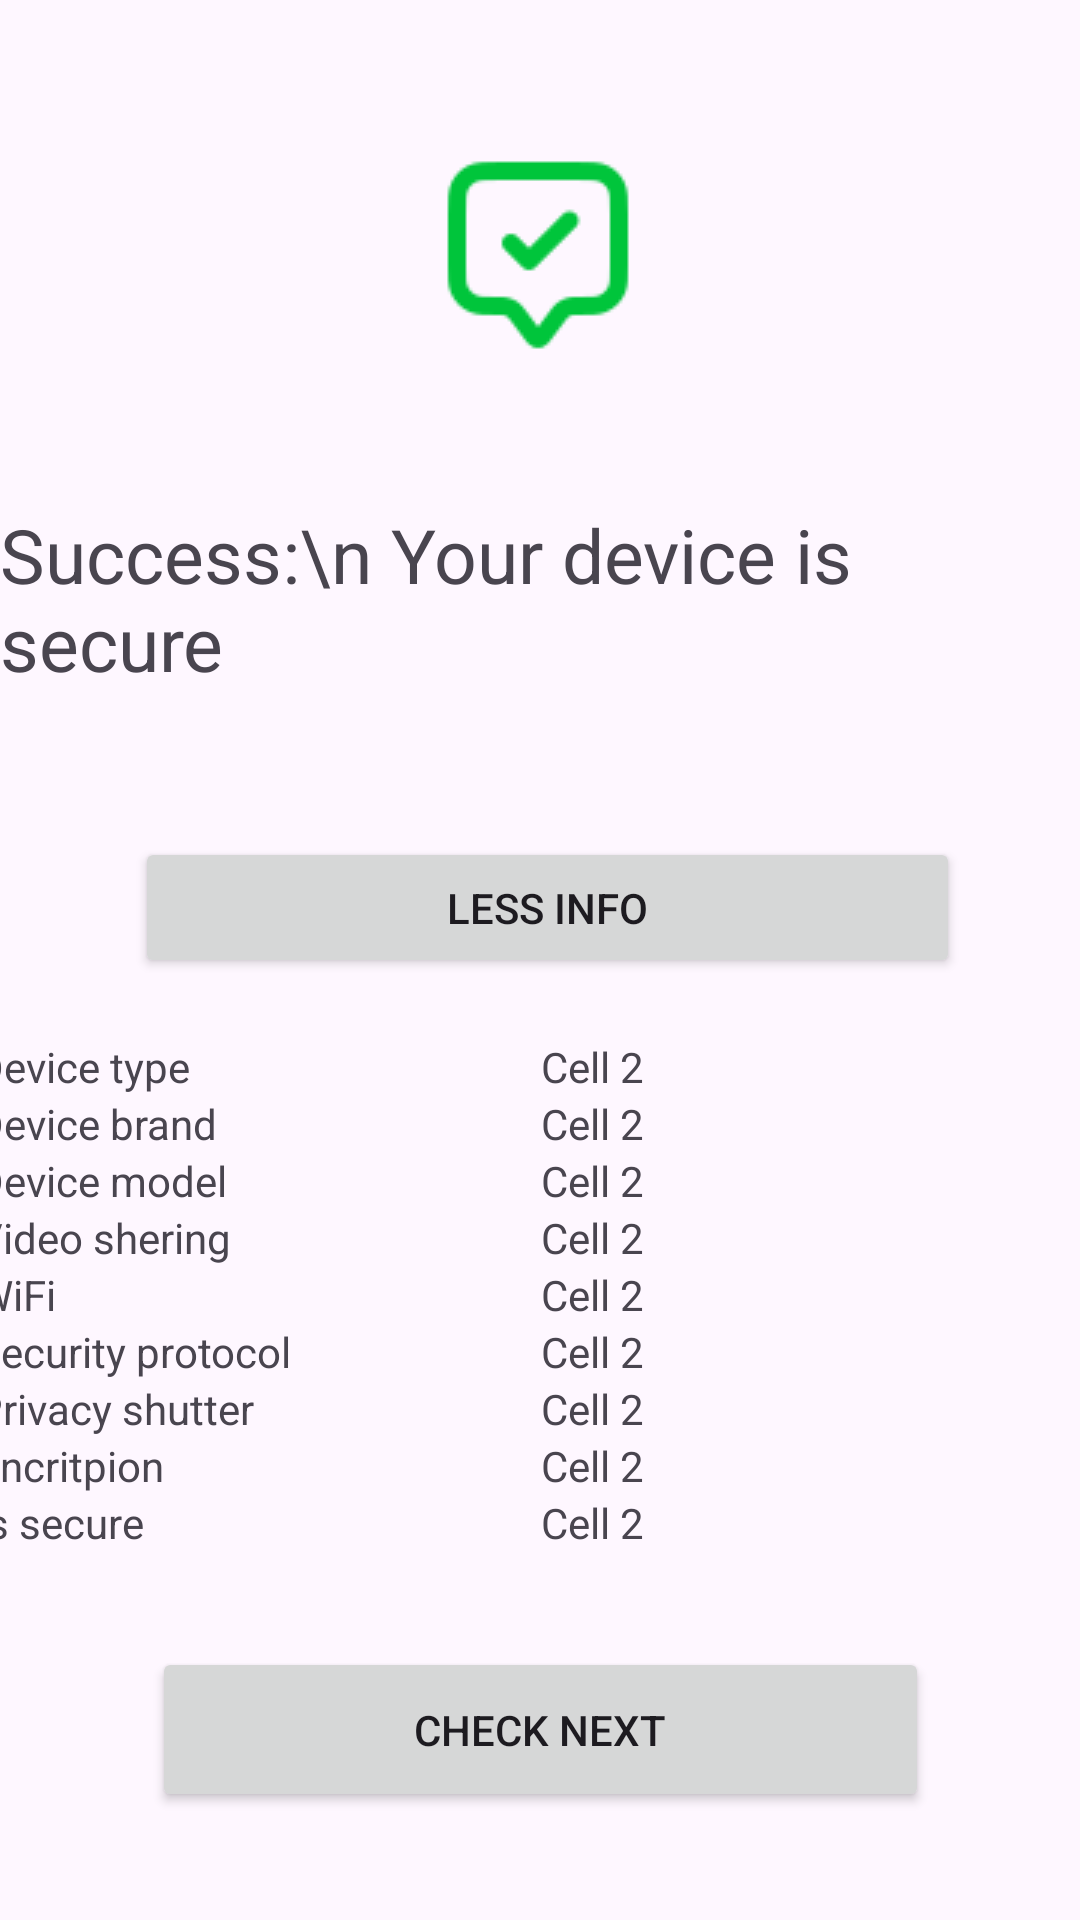

Screen size 1080 x 1920. Icon name, then its center in pixels as (x=x, y=y):
annotation check: (x=538, y=255)
